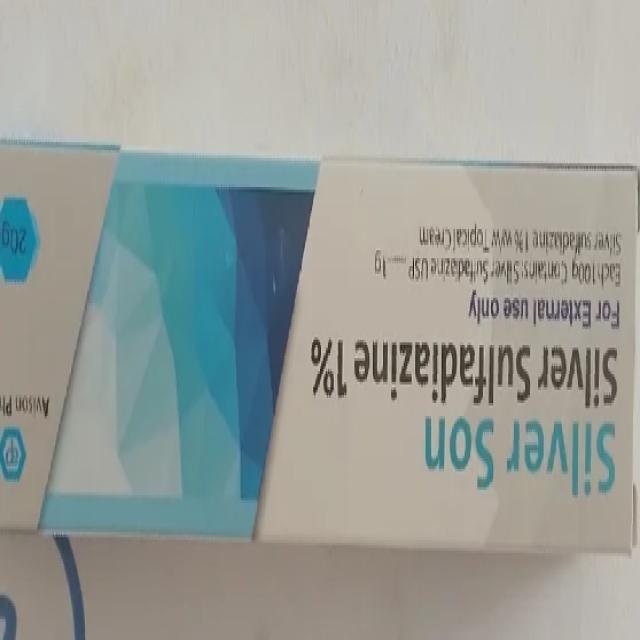drug-name: (422, 416, 620, 500)
